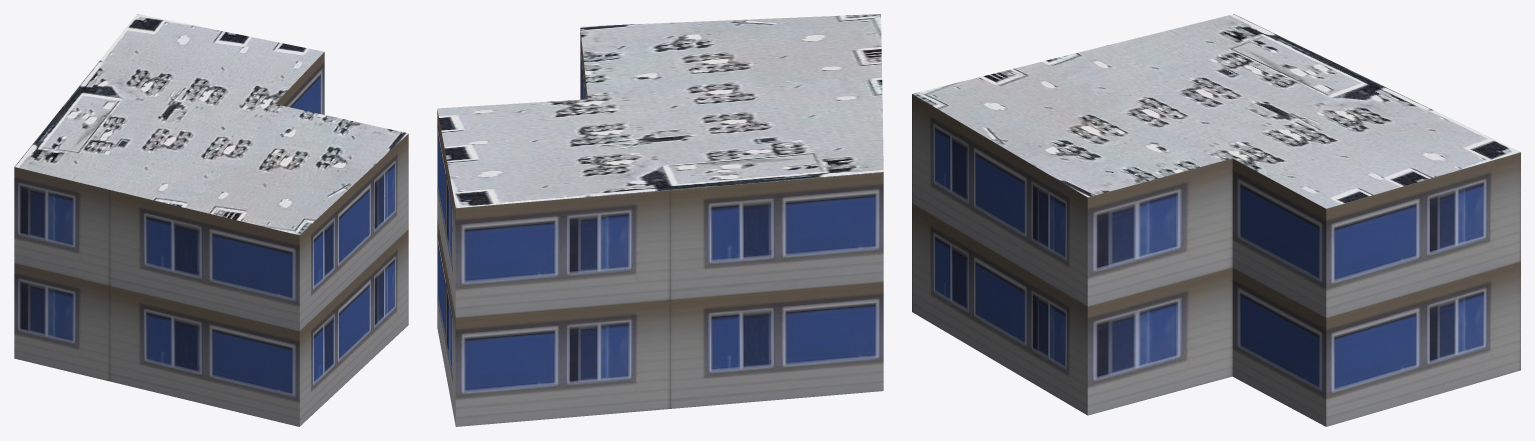
File: ResTex__2490.fbx
The picture shows the model from 3 angles, left to right: view 1: azimuth 30°, elevation 25°; view 2: azimuth 150°, elevation 25°; view 3: azimuth 270°, elevation 25°; orthographic projection. The views are drawn at different scales.
Parts seen in each view (by area): view 1: CityEngineMaterial_23_m, CityEngineMaterial_8_m; view 2: CityEngineMaterial_23_m, CityEngineMaterial_8_m; view 3: CityEngineMaterial_23_m, CityEngineMaterial_8_m.
Boxes of the visible parts, <box> form: CityEngineMaterial_23_m: <box>14,52,408,426</box>; CityEngineMaterial_8_m: <box>14,14,408,235</box>; CityEngineMaterial_23_m: <box>437,30,883,426</box>; CityEngineMaterial_8_m: <box>437,14,883,207</box>; CityEngineMaterial_23_m: <box>912,94,1520,426</box>; CityEngineMaterial_8_m: <box>912,14,1520,208</box>.
Size of the model in its own units: 11.49 by 6 by 15.17.
2 materials, 2 textured.
